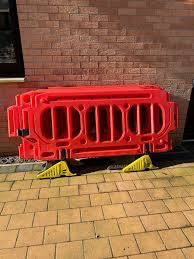barrier: (6, 85, 179, 176)
